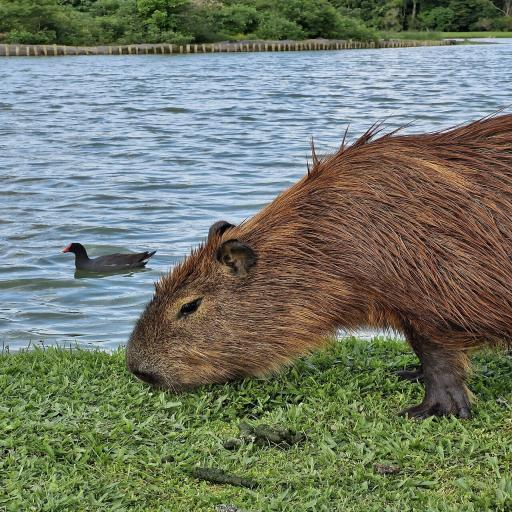capybara: (127, 115, 511, 417)
